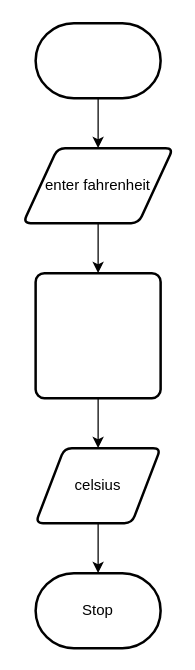
Image size: 195x670. Some labels were removed from this diagram. The shapes that lost their labels are listed below. From the top down, each one's box as (x1, y1, x2, y2) in pixels, then its label:
(34, 21, 161, 99): Start
(34, 271, 161, 399): (32 °F − 32) × 5/9 = 0 °C
